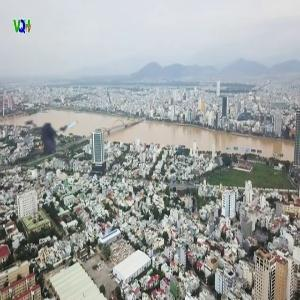drone: (14, 87, 111, 184)
